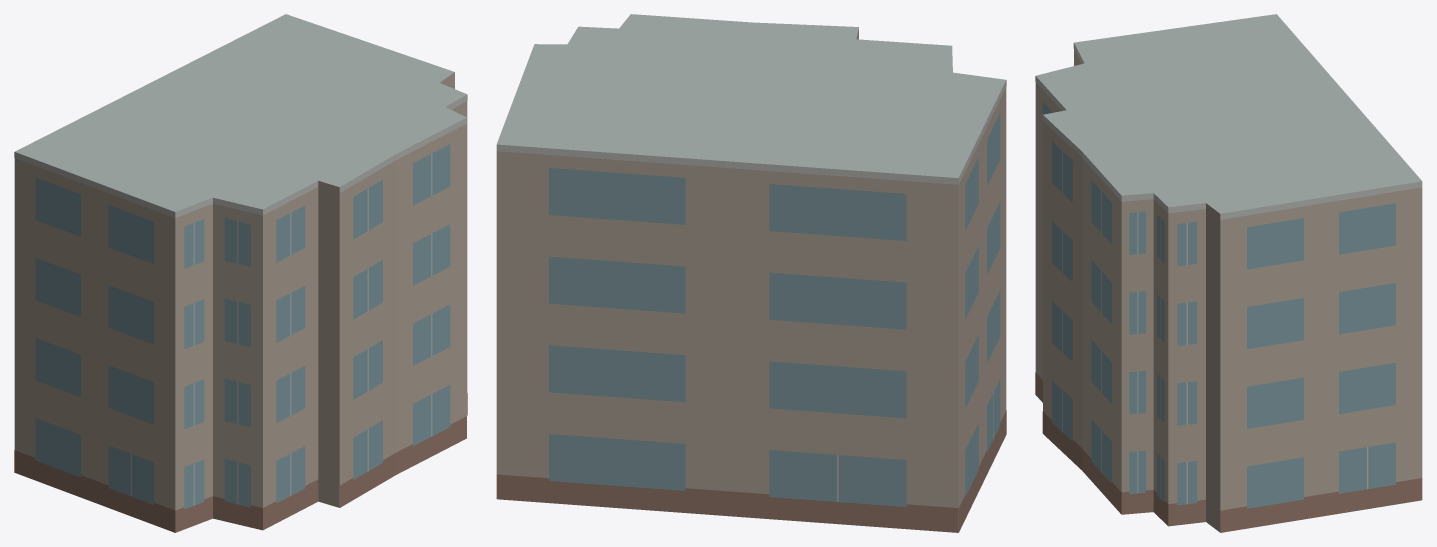
The model's file is survey-upis-32844801.glb.
The picture shows the model from 3 angles, left to right: view 1: azimuth 30°, elevation 25°; view 2: azimuth 150°, elevation 25°; view 3: azimuth 270°, elevation 25°; orthographic projection. The views are drawn at different scales.
Parts seen in each view (by area): view 1: survey-upis-32844801.tmp; view 2: survey-upis-32844801.tmp; view 3: survey-upis-32844801.tmp.
Part boxes in pixels (x1,y1,x2,y2): survey-upis-32844801.tmp: [14, 14, 467, 532]; survey-upis-32844801.tmp: [496, 14, 1006, 532]; survey-upis-32844801.tmp: [1035, 14, 1422, 532].
Size of the model in its own units: 17.35 by 12.9 by 14.19.
